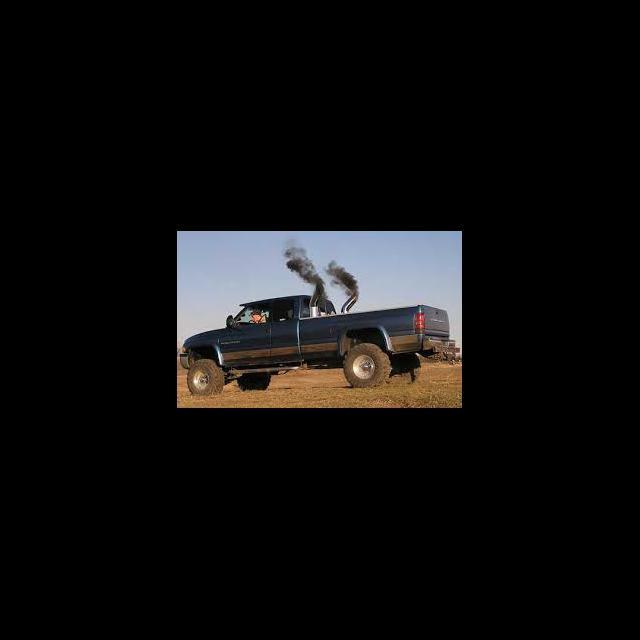Smoke: (281, 246, 358, 308)
